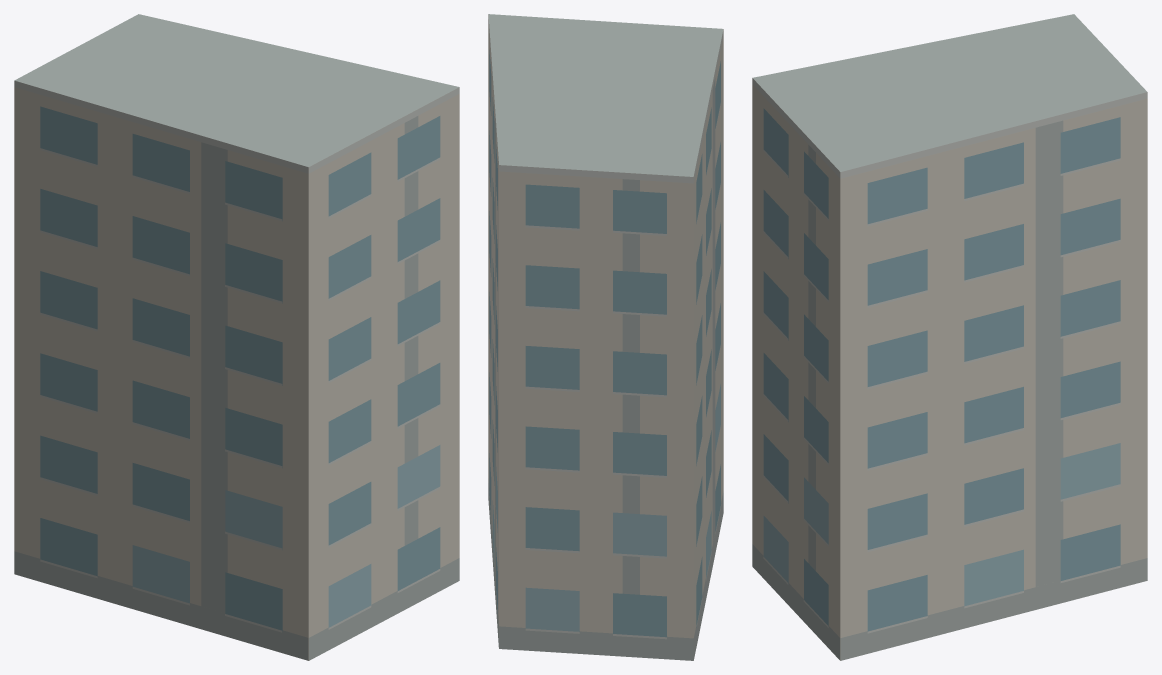
The model's file is survey-upis-32964529.glb.
3 views of the same model, side by side, from view 1: azimuth 30°, elevation 25°; view 2: azimuth 150°, elevation 25°; view 3: azimuth 270°, elevation 25° (orthographic). The views are drawn at different scales.
Visible parts, largest first — view 1: survey-upis-32964529.tmp; view 2: survey-upis-32964529.tmp; view 3: survey-upis-32964529.tmp.
Part boxes in pixels (<box>): survey-upis-32964529.tmp: <box>14,14,459,660</box>; survey-upis-32964529.tmp: <box>488,14,723,660</box>; survey-upis-32964529.tmp: <box>752,14,1147,660</box>.
Bounding box in the file's own units: 12.71 × 18.3 × 13.42.
